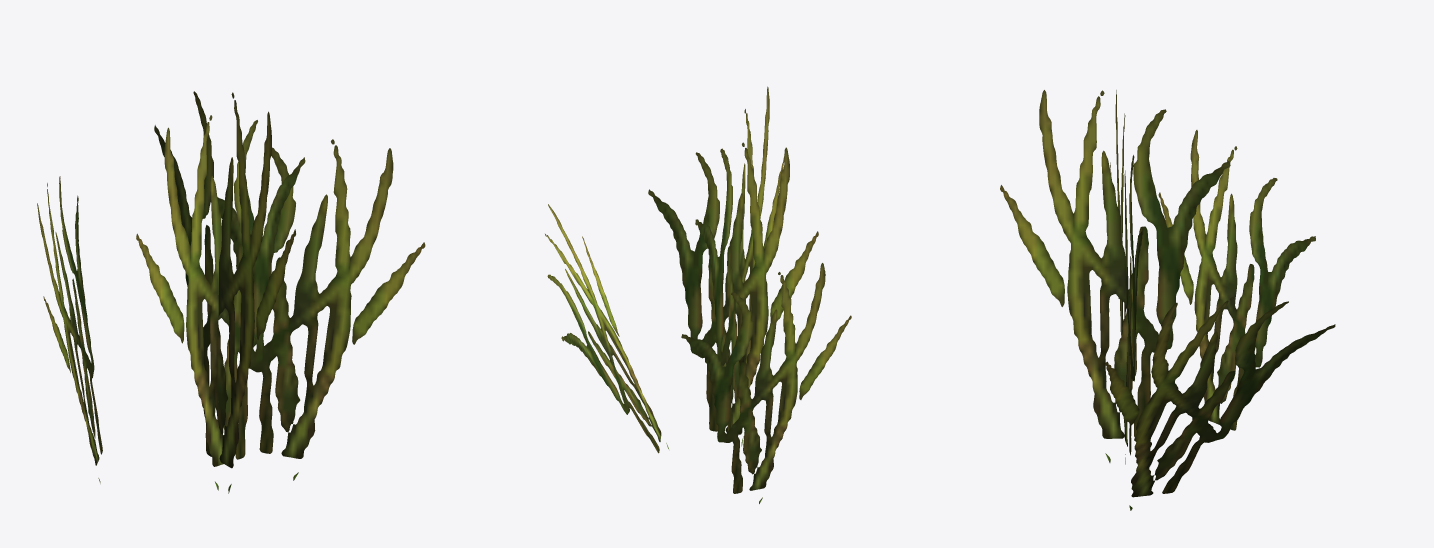
Rendered from sosgra07.obj.
3 views of the same model, side by side, from view 1: azimuth 30°, elevation 25°; view 2: azimuth 150°, elevation 25°; view 3: azimuth 270°, elevation 25° (orthographic). The views are drawn at different scales.
Visible parts, largest first — view 1: SosGra07; view 2: SosGra07; view 3: SosGra07.
Part boxes in pixels (x1,y1,x2,y2): SosGra07: [37, 91, 425, 493]; SosGra07: [545, 86, 851, 503]; SosGra07: [1000, 90, 1335, 510].
Bounding box in the file's own units: 1.17 × 1.2 × 1.16.
